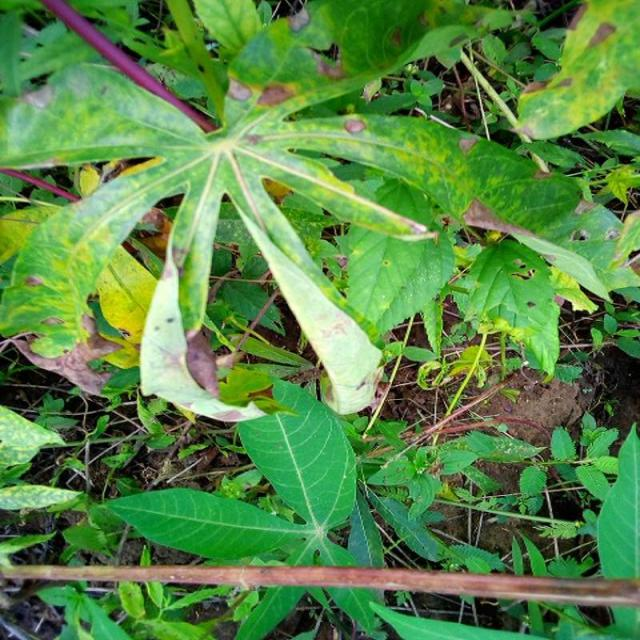cassava leaf: (1, 1, 635, 426), (235, 374, 357, 534)
